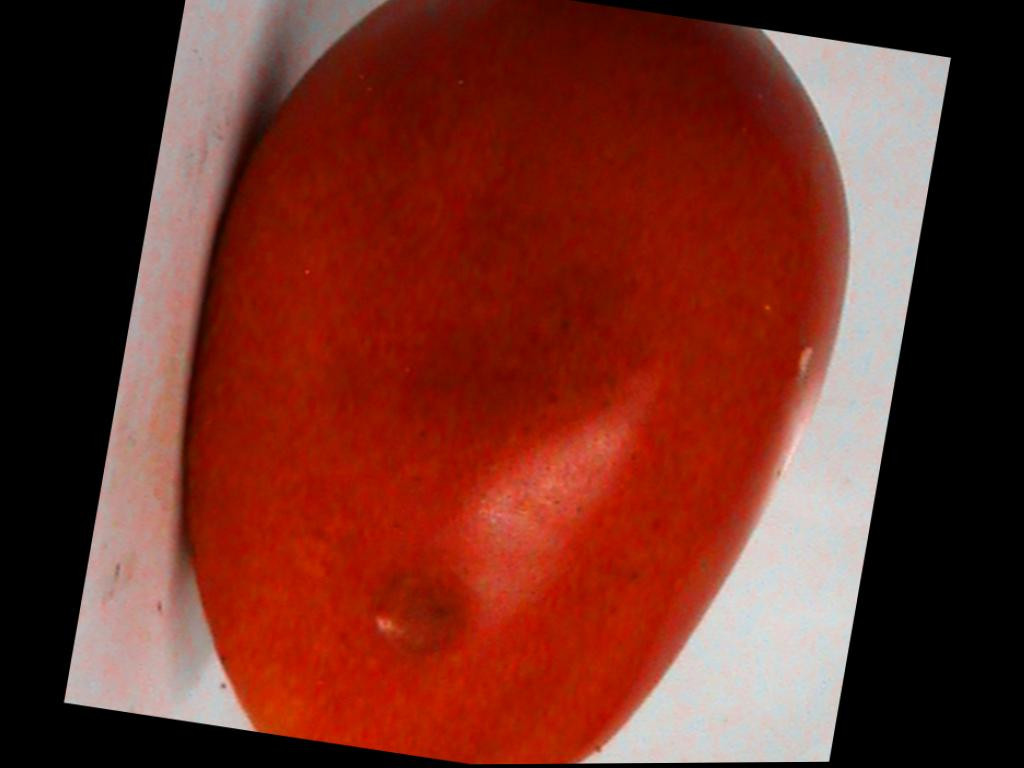bruise_discoloration: (335, 202, 644, 442), (368, 571, 456, 659)
surface_damage: (795, 346, 813, 380)
tomato: (188, 0, 846, 764)
